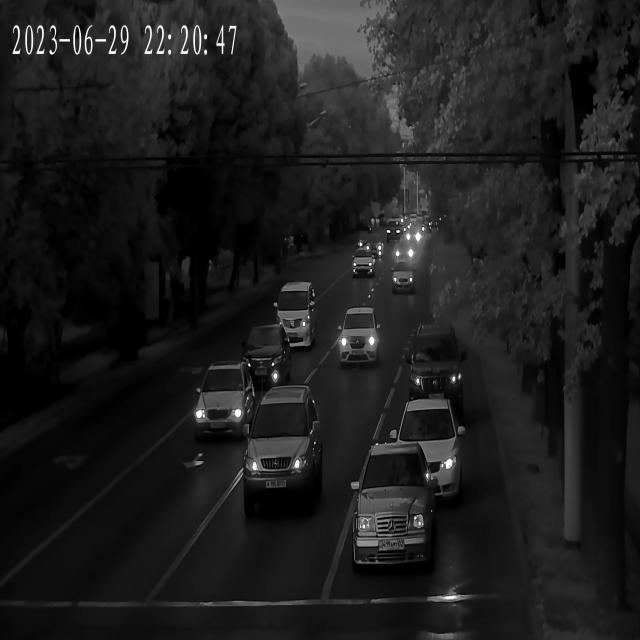Car: (348, 441, 436, 571), (375, 395, 463, 505), (239, 392, 322, 506), (182, 358, 261, 439), (402, 328, 462, 405), (231, 322, 293, 386), (268, 280, 318, 351), (338, 310, 382, 369), (391, 266, 416, 296), (350, 255, 376, 281), (361, 238, 383, 259), (393, 243, 414, 263), (384, 222, 401, 241), (405, 230, 423, 245)
